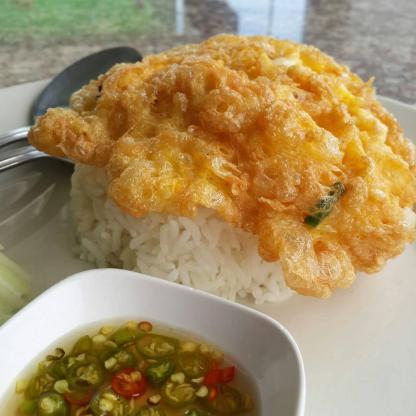Omelette: (26, 36, 408, 302)
